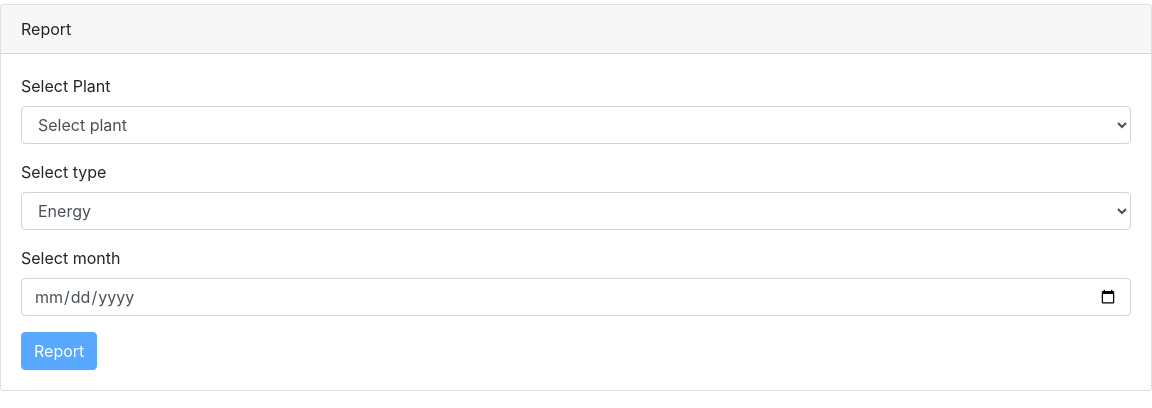
Test: renders report component without crashing › button should be enabled on selecting all fields
The width and height of the screenshot is (1152, 408).
Select "a20c140b-1b12-4611-ad39-b0f792cdba47" in the dropdown with test id "plant_id" at point(576, 125), box [21,106,1131,144]
Select "Energy" in the dropdown with test id "type" at point(576, 211), box [21,192,1131,230]
Type "2019-03-30" into the date field with test id "date".
click(576, 297); type("2019-03-30")  # box [21,278,1131,316]
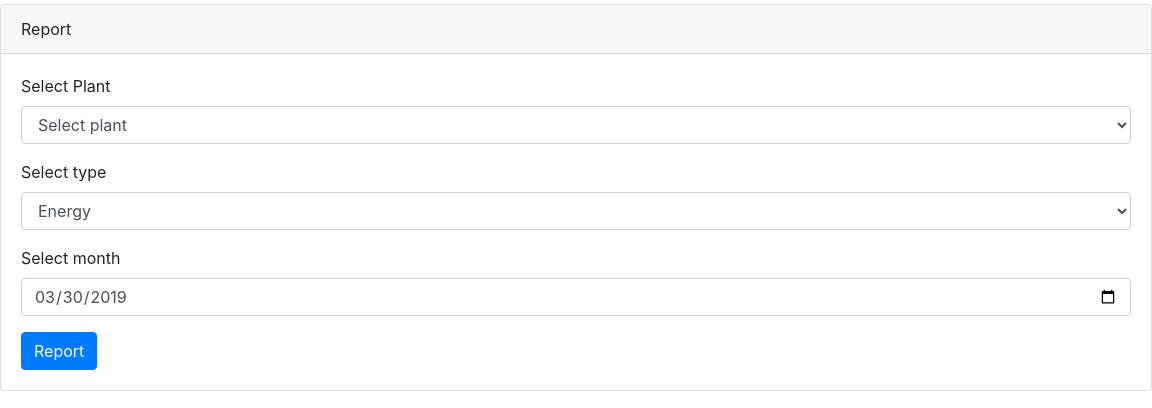
Now the button with test id "report_btn" is enabled, box [21,332,97,370]
